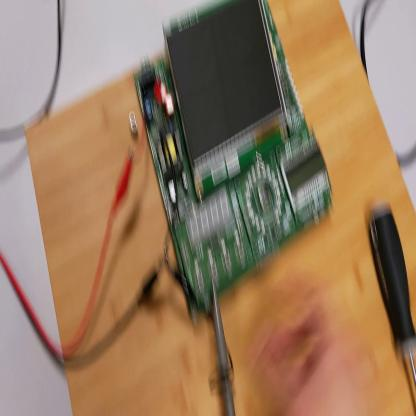hand: (246, 270, 364, 413)
low voltage board: (134, 3, 335, 327)
oscilloscope probe tip: (210, 264, 236, 416)
screwdriver-: (370, 202, 416, 383)
working area: (26, 1, 416, 414)
